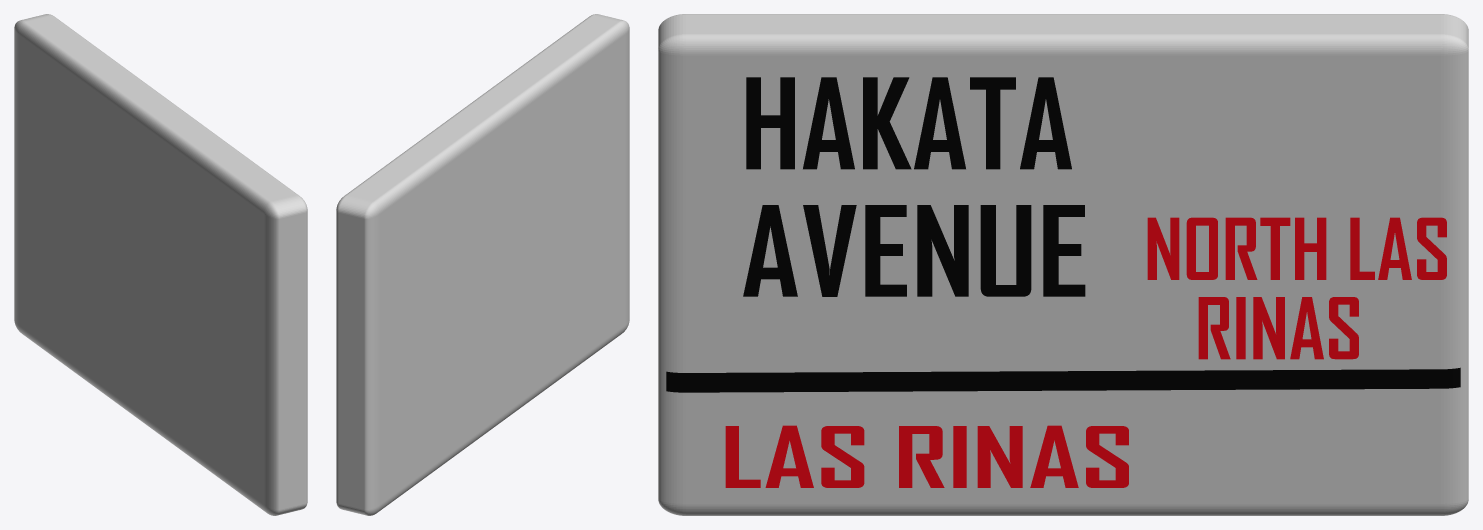
Rendered from uk_styled_street_sign_4.fbx.
3 views of the same model, side by side, from view 1: azimuth 30°, elevation 25°; view 2: azimuth 150°, elevation 25°; view 3: azimuth 270°, elevation 25° (orthographic). The views are drawn at different scales.
Parts seen in each view (by area): view 1: Cube; view 2: Cube; view 3: Cube, Text.001, Text, Text.002, Text.003, Text.004.
Part boxes in pixels (box(x1,y1,x2,y2)): Cube: box(14, 14, 307, 515); Cube: box(336, 14, 629, 515); Cube: box(658, 14, 1468, 515); Text.001: box(743, 205, 1085, 296); Text: box(746, 77, 1071, 169); Text.002: box(725, 425, 1128, 487); Text.003: box(1147, 217, 1446, 279); Text.004: box(1198, 297, 1358, 359).
Size of the model in its own units: 1.63 by 11.91 by 18.18.
